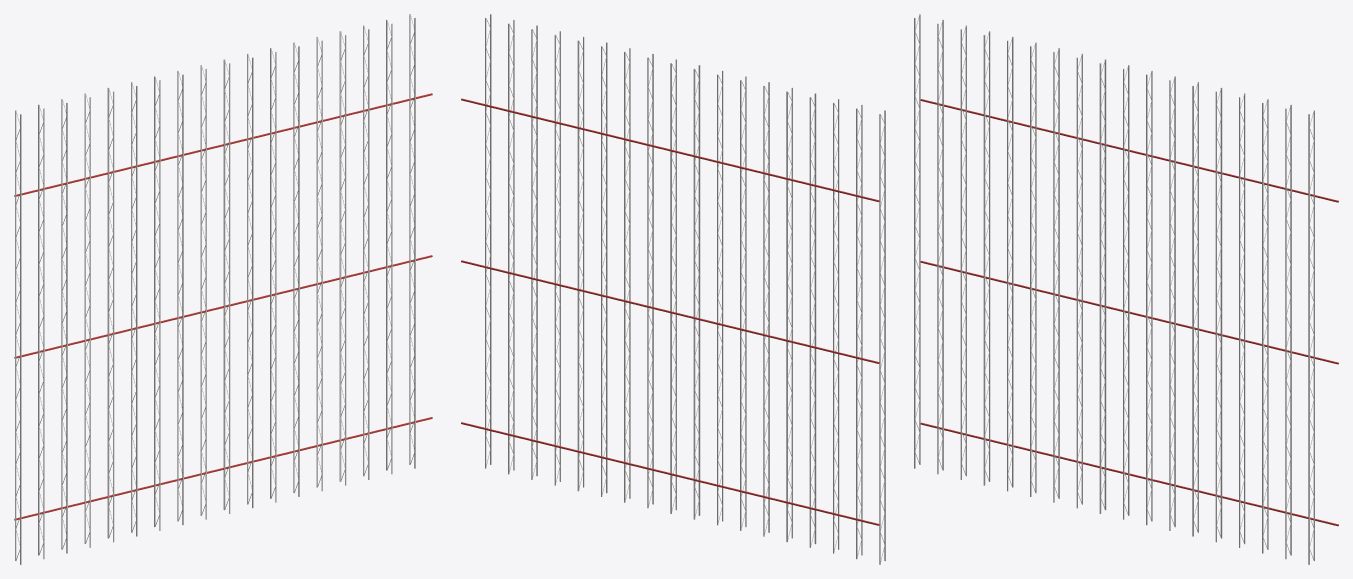
The model's file is roof_20.gltf.
3 views of the same model, side by side, from view 1: azimuth 30°, elevation 25°; view 2: azimuth 150°, elevation 25°; view 3: azimuth 330°, elevation 25° (orthographic).
Parts seen in each view (by area): view 1: roof_20; view 2: roof_20; view 3: roof_20.
Part boxes in pixels (x1=…): roof_20: x1=14, y1=14, x2=432, y2=564; roof_20: x1=461, y1=14, x2=885, y2=564; roof_20: x1=914, y1=14, x2=1338, y2=564.
Size of the model in its own units: 32.44 by 33.41 by 0.9.
